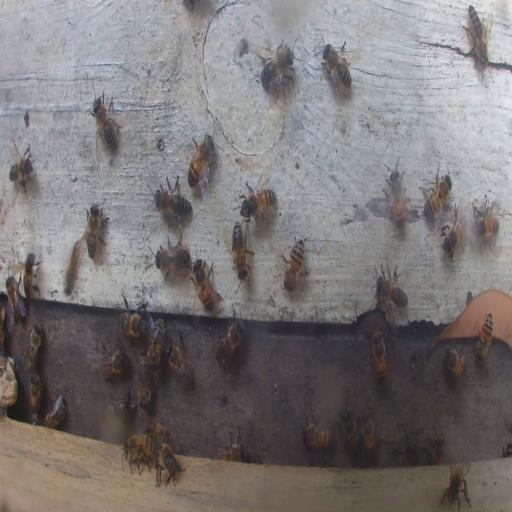nonpollenbee: (256, 41, 298, 98), (318, 37, 353, 99), (421, 163, 453, 224), (90, 90, 121, 152), (462, 4, 491, 68), (187, 130, 214, 198), (153, 172, 191, 220), (440, 460, 474, 511), (80, 201, 108, 261), (228, 218, 255, 280), (192, 258, 222, 312), (375, 264, 408, 312), (166, 333, 194, 389), (440, 204, 466, 262), (214, 316, 244, 366), (9, 143, 34, 199), (241, 183, 276, 221), (156, 239, 190, 277), (283, 236, 305, 292), (121, 432, 152, 471), (388, 166, 407, 229), (4, 273, 28, 321), (98, 342, 128, 380), (108, 382, 138, 419), (156, 444, 180, 488), (340, 407, 360, 457), (117, 306, 145, 340), (475, 313, 494, 361), (41, 393, 67, 428), (361, 406, 379, 456), (146, 316, 164, 366), (302, 422, 334, 450), (22, 249, 39, 298), (442, 345, 468, 377), (24, 324, 42, 370), (476, 203, 498, 240), (137, 355, 152, 408), (372, 329, 386, 384), (400, 431, 422, 461), (426, 430, 445, 464), (145, 424, 171, 446), (216, 442, 246, 460), (29, 372, 41, 416)
pollenbee: (0, 298, 9, 349)
